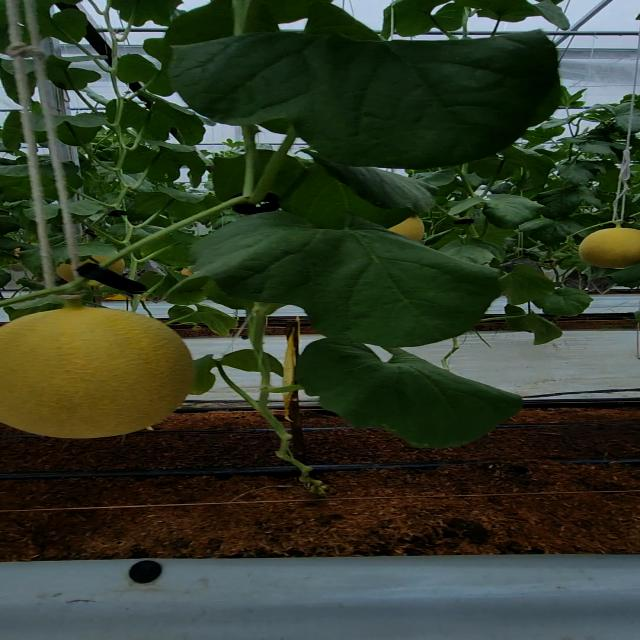Front-melon: (0, 312, 198, 439)
Rear-melon: (579, 229, 640, 266)
